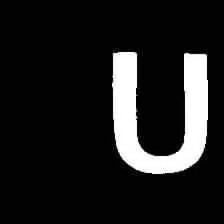LTR_U: (105, 42, 215, 182)
